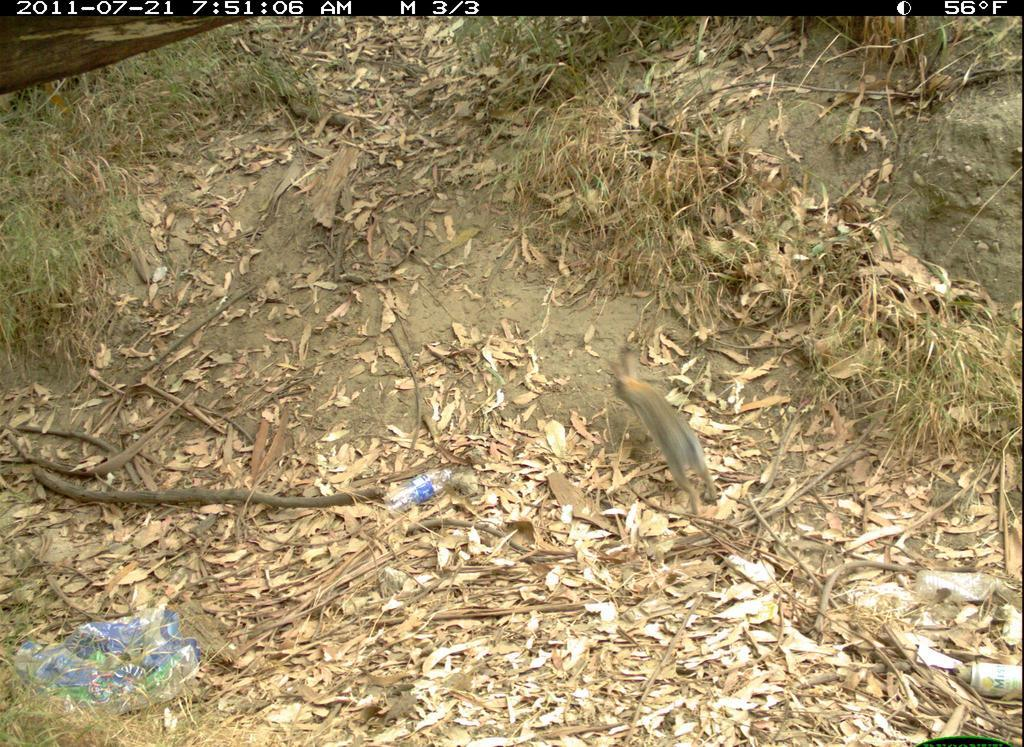rabbit: (597, 340, 730, 519)
